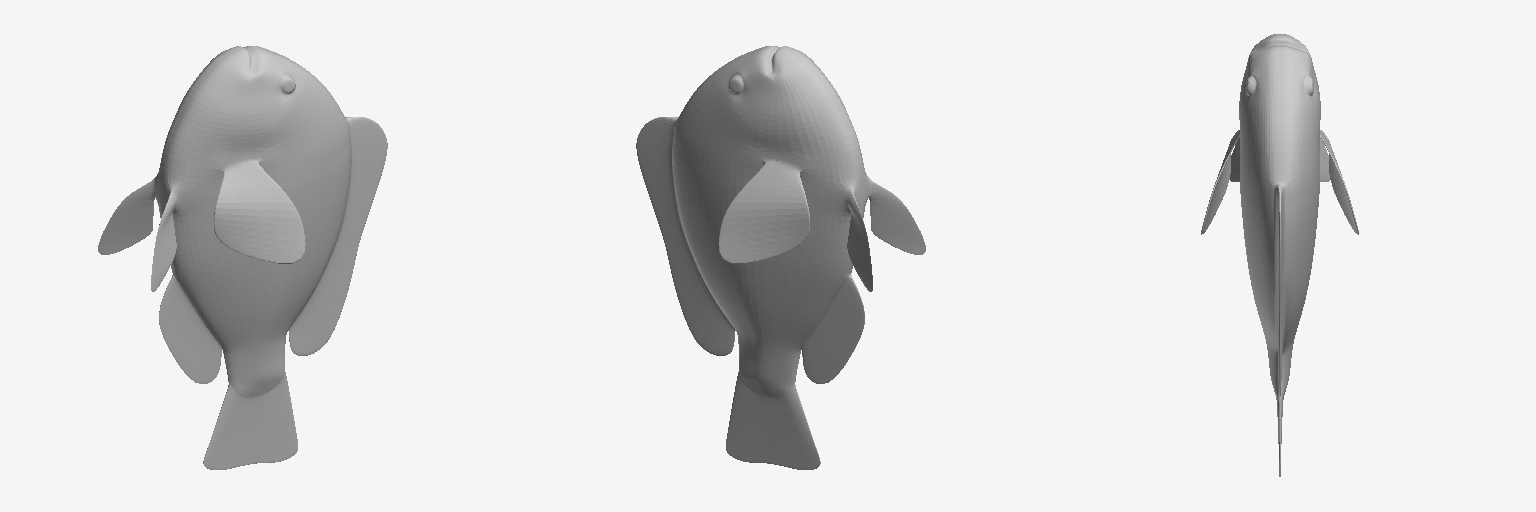
3 views of the same model, side by side, from view 1: azimuth 30°, elevation 25°; view 2: azimuth 150°, elevation 25°; view 3: azimuth 270°, elevation 25° (orthographic).
Visible parts, largest first — view 1: 12265_Fish_v1_L2.001; view 2: 12265_Fish_v1_L2.001; view 3: 12265_Fish_v1_L2.001.
Boxes of the visible parts, x1=… form: 12265_Fish_v1_L2.001: x1=98, y1=46, x2=387, y2=469; 12265_Fish_v1_L2.001: x1=636, y1=46, x2=925, y2=469; 12265_Fish_v1_L2.001: x1=1201, y1=34, x2=1358, y2=476.
Size of the model in its own units: 2.24 by 3.44 by 1.16.